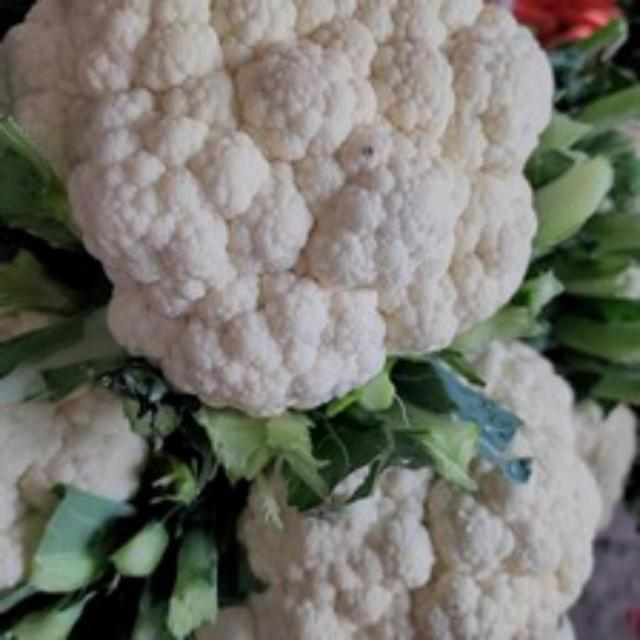cauliflower: (0, 0, 571, 432)
